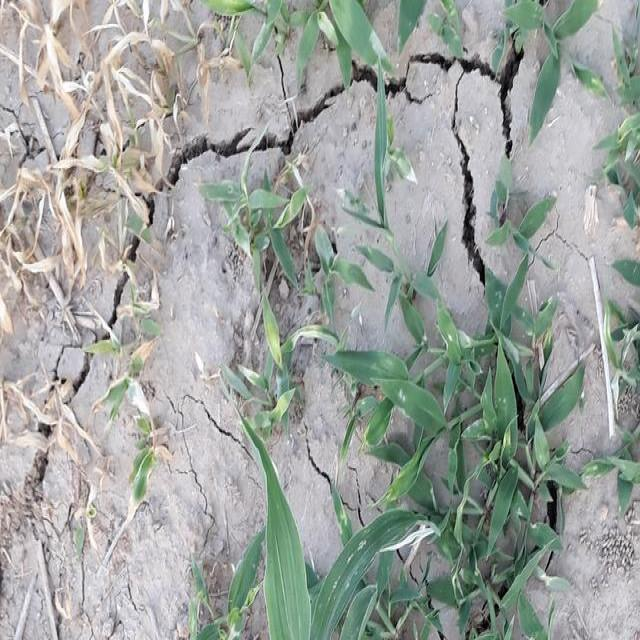weed: (332, 279, 572, 640)
